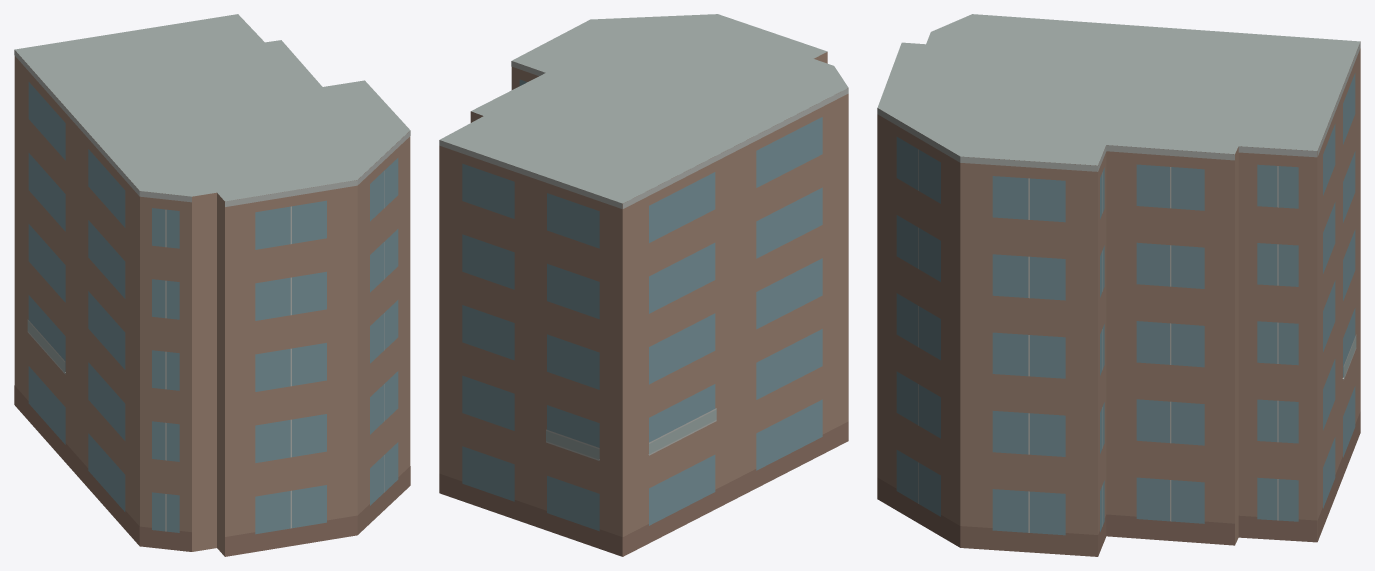
Rendered from survey-upis-32540712.glb.
The picture shows the model from 3 angles, left to right: view 1: azimuth 30°, elevation 25°; view 2: azimuth 150°, elevation 25°; view 3: azimuth 270°, elevation 25°; orthographic projection. The views are drawn at different scales.
Visible parts, largest first — view 1: survey-upis-32540712.tmp; view 2: survey-upis-32540712.tmp; view 3: survey-upis-32540712.tmp.
Boxes of the visible parts, x1=… form: survey-upis-32540712.tmp: x1=14, y1=14, x2=410, y2=556; survey-upis-32540712.tmp: x1=439, y1=14, x2=848, y2=556; survey-upis-32540712.tmp: x1=877, y1=14, x2=1360, y2=556.
Size of the model in its own units: 12.59 by 15.15 by 16.96.
